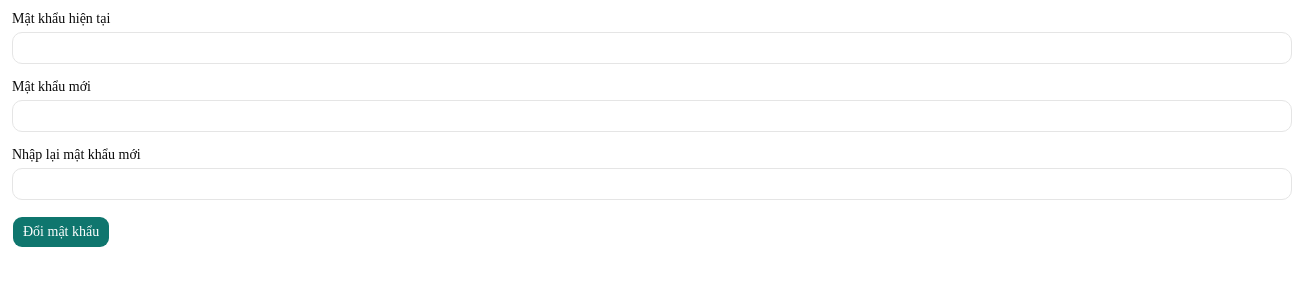
Scenario: ChangePasswordForm › mật khẩu mới trùng mật khẩu hiện tại -> lỗi ở ô mật khẩu mới
The width and height of the screenshot is (1304, 290).
Type "same-password-1" into the password field labelled "Mật khẩu hiện tại". click: (652, 48)
box: x1=12 y1=32 x2=1292 y2=64
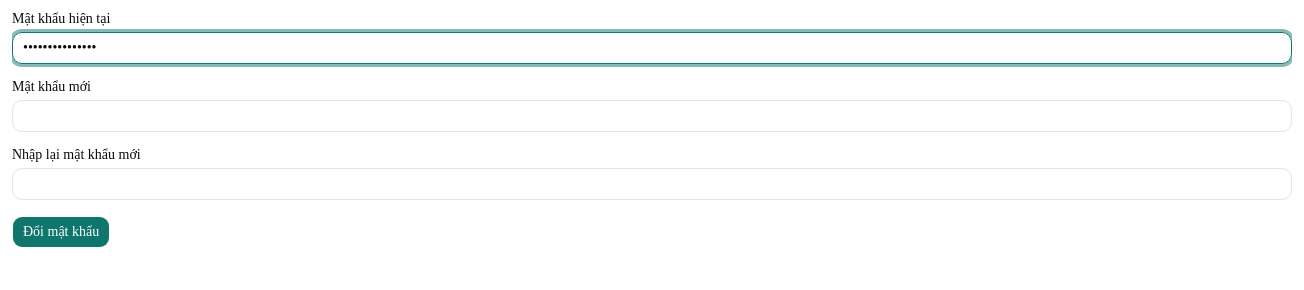
Type "same-password-1" into the password field labelled "Mật khẩu mới". click: (652, 116)
box: x1=12 y1=100 x2=1292 y2=132
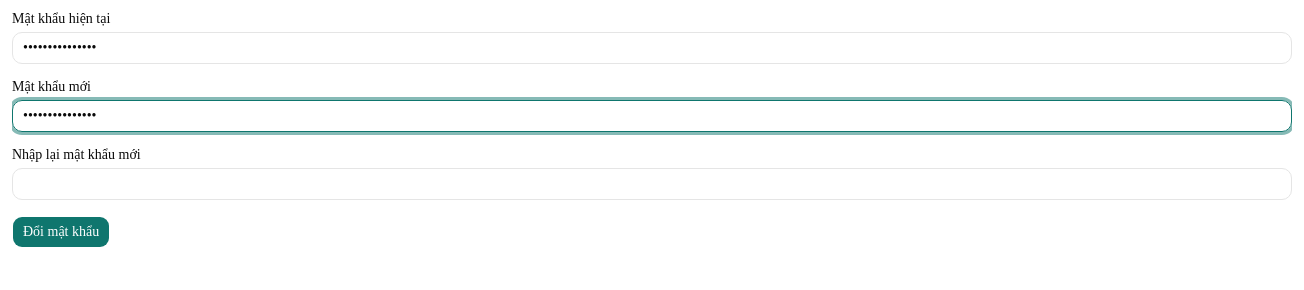
Type "same-password-1" into the password field labelled "Nhập lại mật khẩu mới". click: (652, 184)
box: x1=12 y1=168 x2=1292 y2=200
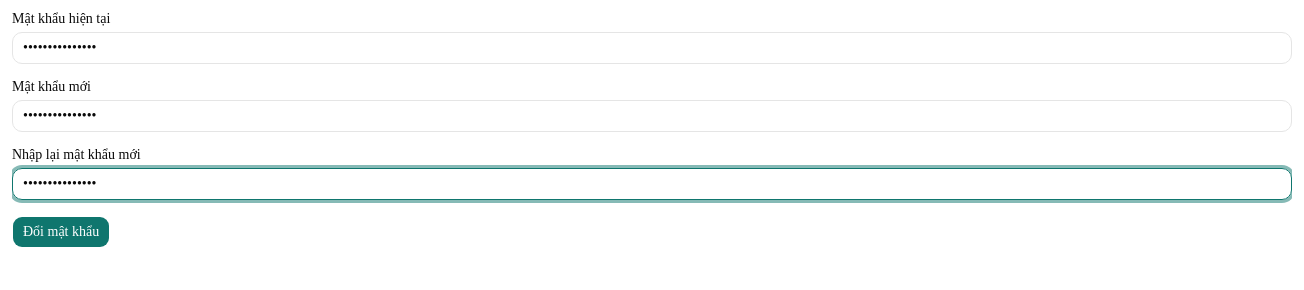
Click the button "Đổi mật khẩu". click: (61, 232)
box: x1=12 y1=216 x2=110 y2=248
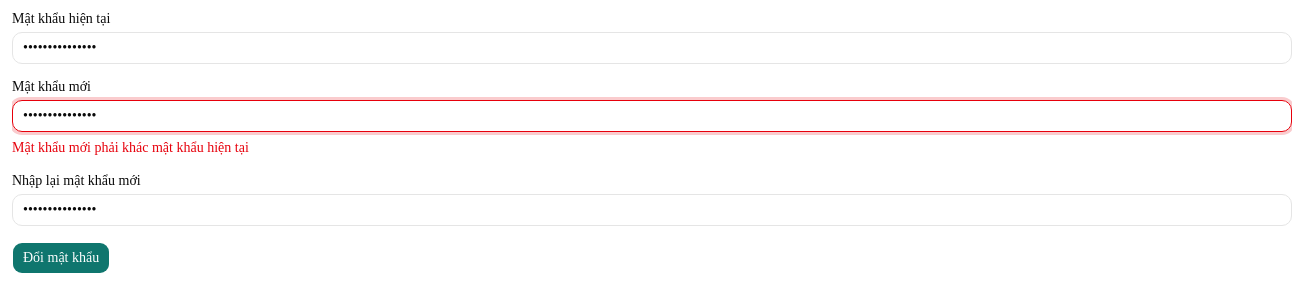
Check: the text "Mật khẩu mới phải khác mật khẩu hiện tại" is shown, box x1=12 y1=140 x2=249 y2=155
